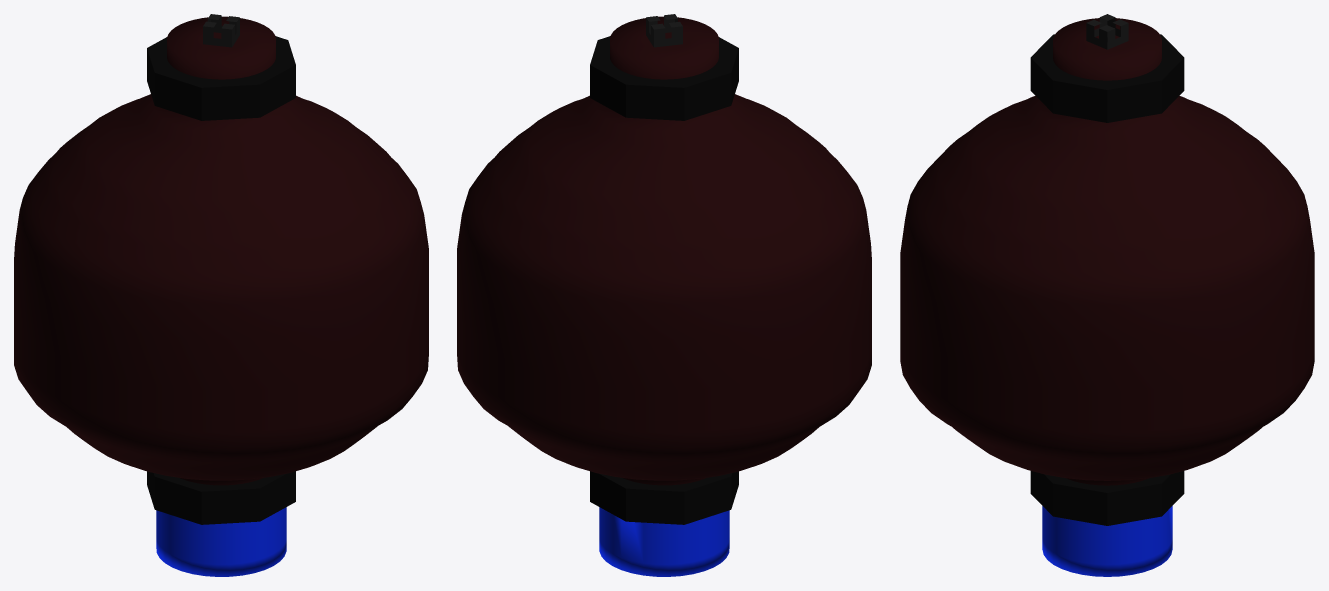
The picture shows the model from 3 angles, left to right: view 1: azimuth 30°, elevation 25°; view 2: azimuth 150°, elevation 25°; view 3: azimuth 270°, elevation 25°; orthographic projection.
Parts seen in each view (by area): view 1: Cylinder.001, Cylinder.002, Cylinder.004, Cylinder, Cylinder.003; view 2: Cylinder.001, Cylinder.002, Cylinder.004, Cylinder, Cylinder.003; view 3: Cylinder.001, Cylinder.002, Cylinder.004, Cylinder, Cylinder.003.
Boxes of the visible parts, box(x1,y1,x2,y2) form: Cylinder.001: box(14, 16, 428, 485); Cylinder.002: box(147, 36, 295, 120); Cylinder.004: box(156, 507, 286, 576); Cylinder: box(147, 471, 295, 524); Cylinder.003: box(203, 14, 239, 47); Cylinder.001: box(457, 16, 871, 485); Cylinder.002: box(590, 36, 738, 120); Cylinder.004: box(599, 507, 729, 576); Cylinder: box(590, 471, 738, 524); Cylinder.003: box(646, 14, 682, 47); Cylinder.001: box(900, 18, 1314, 485); Cylinder.002: box(1030, 34, 1184, 122); Cylinder.004: box(1042, 506, 1172, 576); Cylinder: box(1030, 471, 1184, 525); Cylinder.003: box(1086, 14, 1128, 49).
Size of the model in its own units: 7 by 9.82 by 7.
